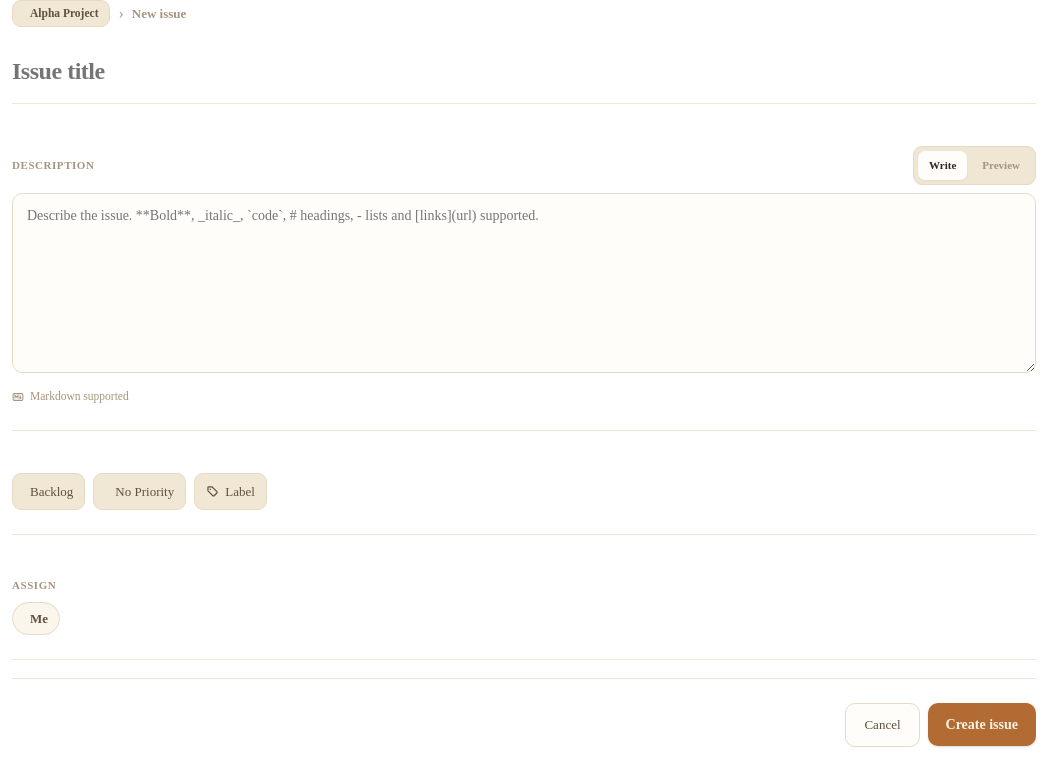
Test: CreateIssueForm › shows a "Create ..." affordance when typing a name that does not match an existing label
Click the button with aria-label "labels" at (230, 491), box [194,473,267,510]
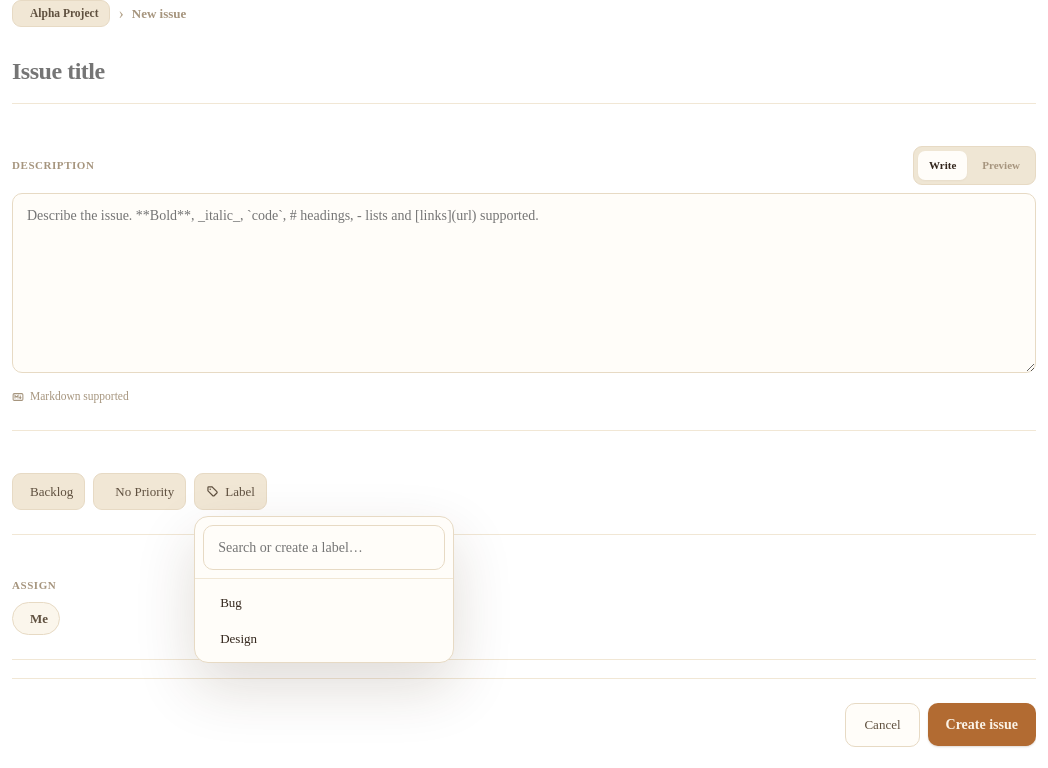
Type "Performance" into the field with placeholder "Search or create a label…" at (324, 548), box [203,525,445,570]
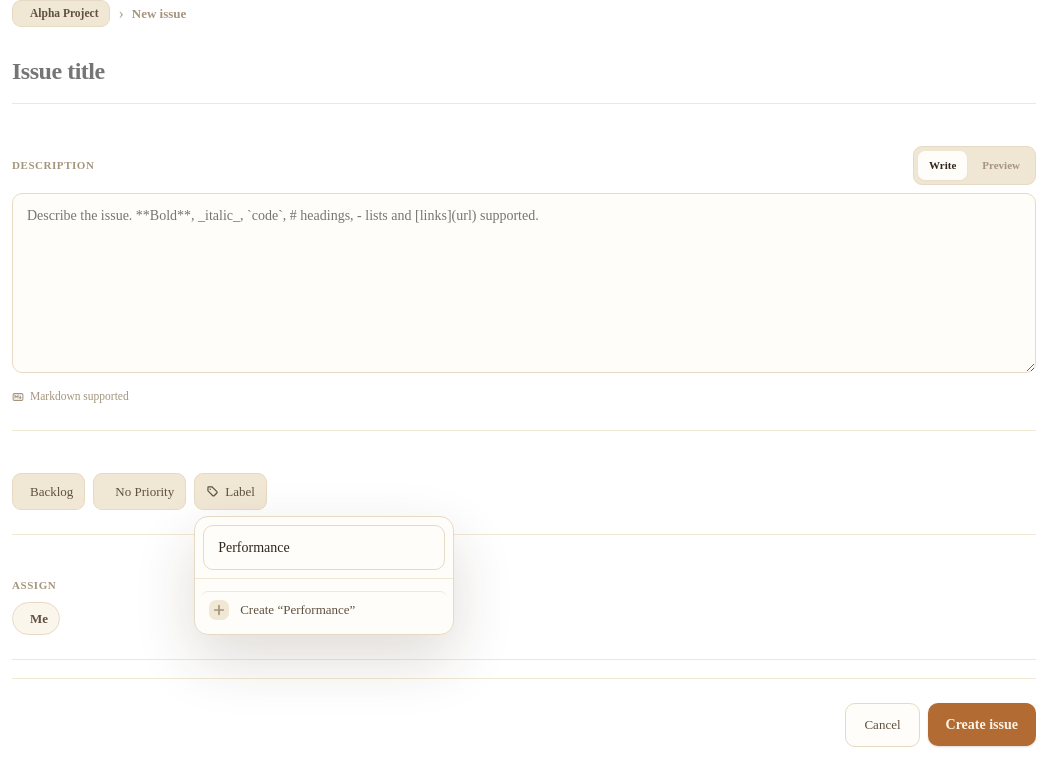
Result: the button "Create “Performance”" is shown at [201,591,447,628]
